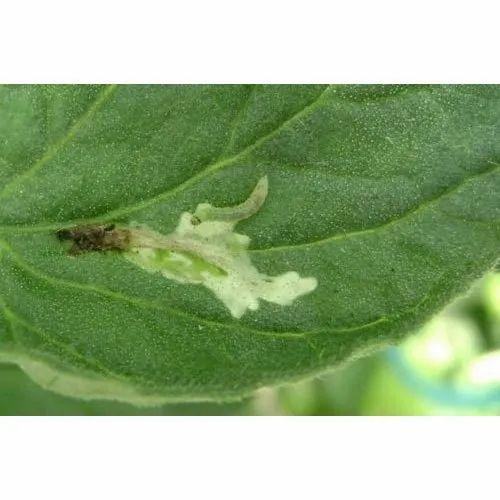Leaf_Miner: (0, 82, 500, 402)
